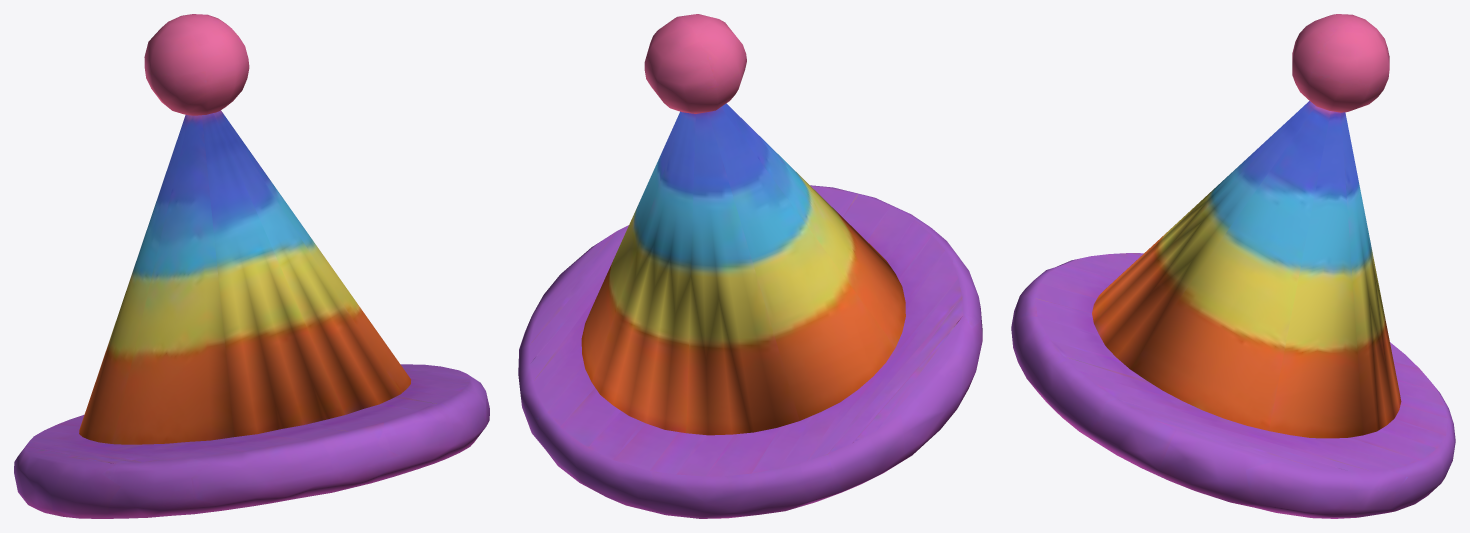
File: acc-partyhat.glb
The picture shows the model from 3 angles, left to right: view 1: azimuth 30°, elevation 25°; view 2: azimuth 150°, elevation 25°; view 3: azimuth 270°, elevation 25°; orthographic projection. The views are drawn at different scales.
Visible parts, largest first — view 1: tripo_node_140c5fe7-8830-4543-82d8-5c42da8f6fde; view 2: tripo_node_140c5fe7-8830-4543-82d8-5c42da8f6fde; view 3: tripo_node_140c5fe7-8830-4543-82d8-5c42da8f6fde.
Part boxes in pixels (x1,y1,x2,y2): tripo_node_140c5fe7-8830-4543-82d8-5c42da8f6fde: [14, 14, 489, 518]; tripo_node_140c5fe7-8830-4543-82d8-5c42da8f6fde: [518, 14, 982, 518]; tripo_node_140c5fe7-8830-4543-82d8-5c42da8f6fde: [1011, 14, 1455, 518].
Size of the model in its own units: 0.9316 by 0.998 by 0.8925.
Materials: 1 (1 with a texture image).
